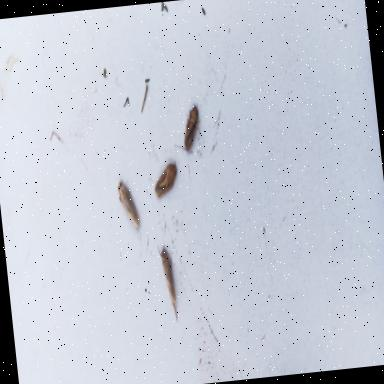pbw: (157, 242, 180, 324), (116, 179, 142, 231), (180, 104, 203, 154), (151, 160, 179, 198)
